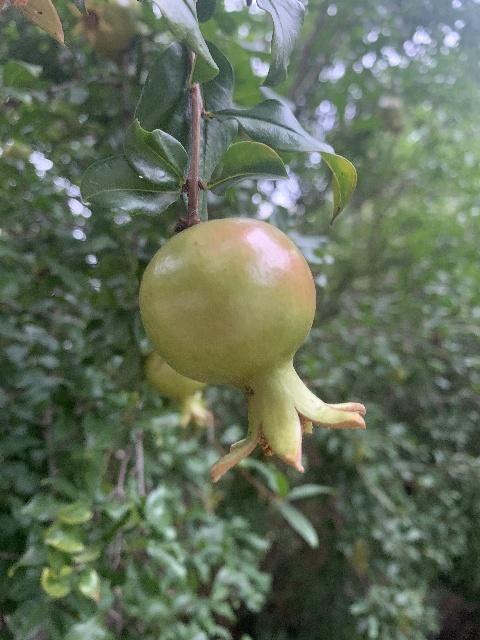mid-growth: (140, 216, 369, 481), (144, 352, 219, 429), (67, 0, 143, 51)
